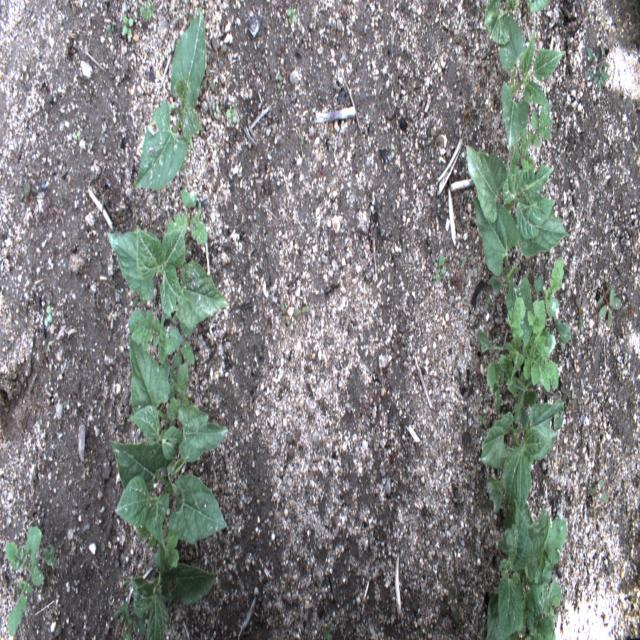crop: (106, 223, 230, 336), (127, 333, 229, 469), (133, 7, 208, 188), (109, 439, 228, 548), (465, 146, 569, 258), (479, 396, 564, 520), (124, 532, 216, 640), (497, 16, 567, 150), (471, 196, 533, 347), (483, 502, 550, 639), (483, 0, 520, 46), (527, 0, 551, 16)
weed: (476, 255, 573, 425), (4, 522, 58, 638), (127, 307, 195, 366), (522, 516, 568, 586), (165, 189, 209, 247), (520, 578, 561, 640), (167, 358, 190, 421), (597, 273, 622, 328), (114, 599, 146, 640), (586, 47, 610, 88), (588, 478, 608, 526), (442, 584, 460, 627), (575, 295, 588, 334), (433, 252, 447, 285), (292, 304, 310, 322), (138, 0, 154, 20), (122, 15, 135, 38), (280, 301, 291, 327), (43, 302, 54, 325), (226, 106, 238, 123), (287, 7, 297, 26), (522, 4, 532, 23), (322, 620, 331, 639), (276, 72, 284, 90), (478, 414, 487, 428), (390, 141, 396, 159), (460, 254, 467, 269), (212, 102, 217, 120), (106, 24, 112, 38), (299, 134, 305, 147), (73, 131, 81, 140), (485, 296, 490, 310)
